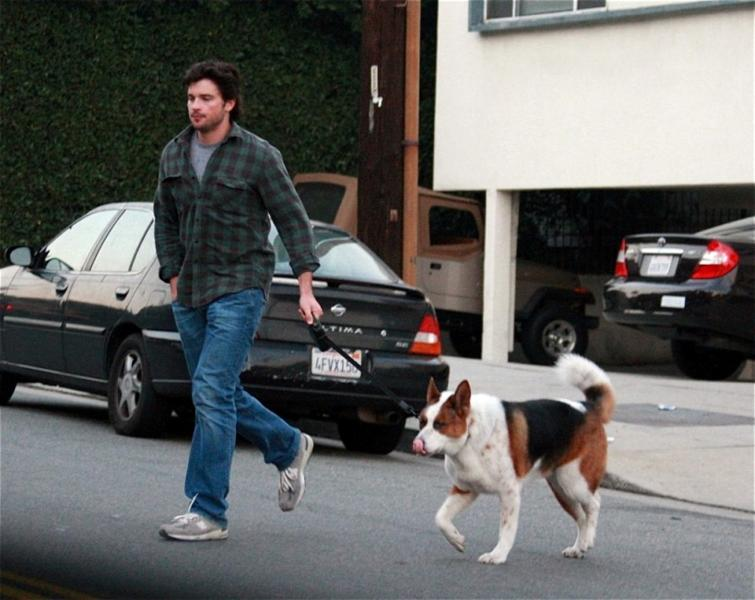person: (153, 63, 324, 538)
